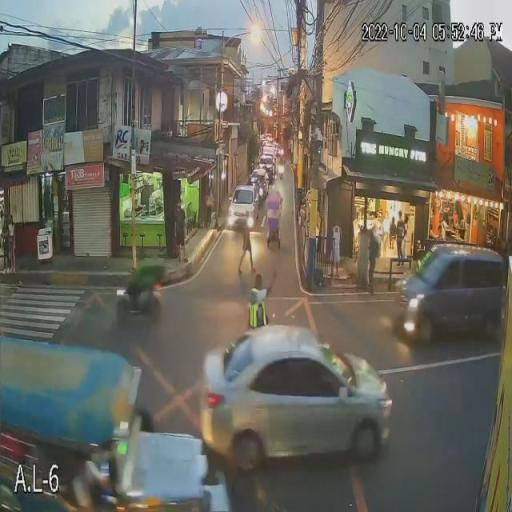helmet: (86, 442, 108, 459)
motorcycle: (116, 264, 166, 326), (266, 204, 282, 250)
rider: (122, 264, 164, 310), (266, 192, 282, 245)
